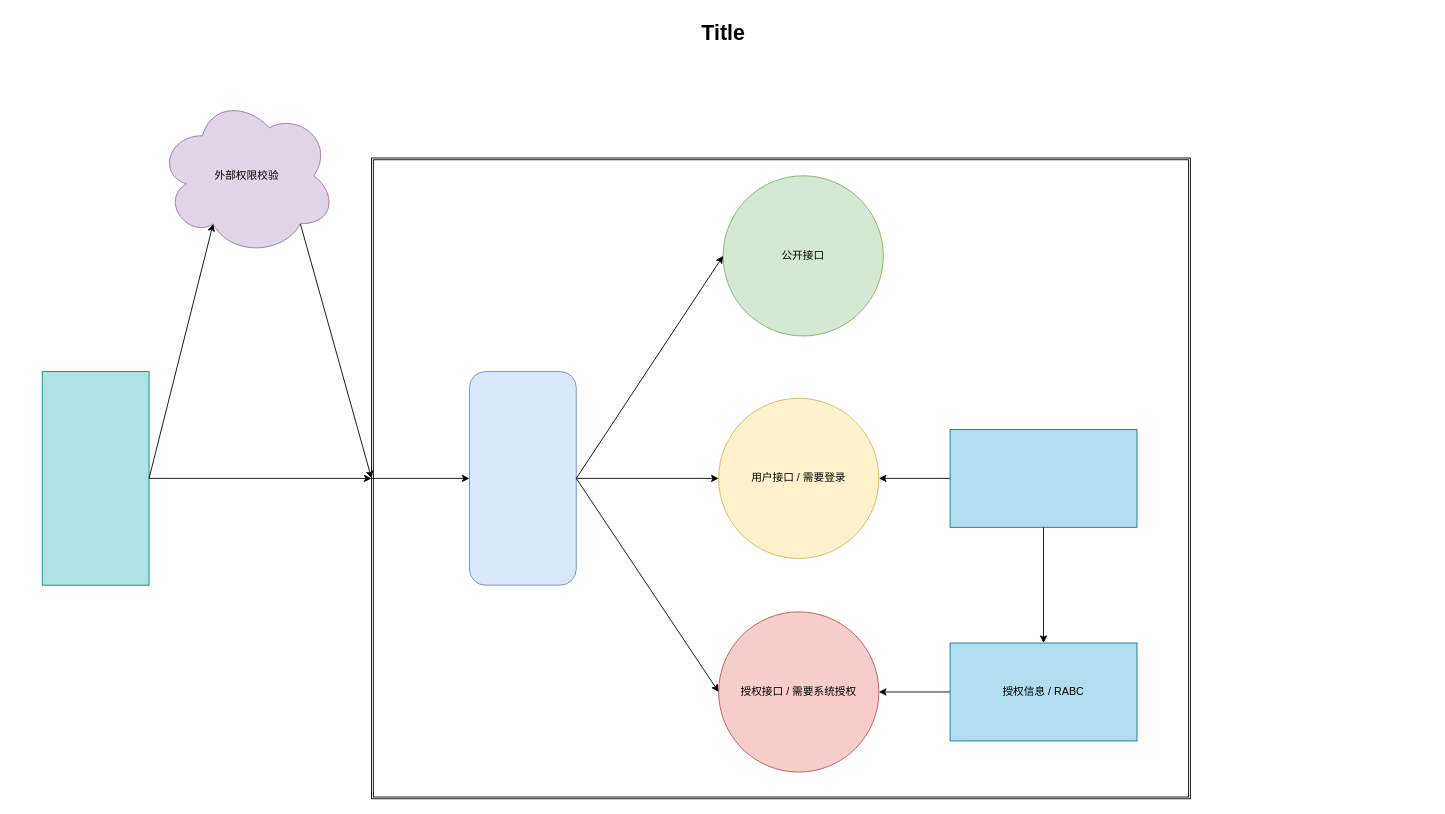
The diagram is 1445 pixels wide and 814 high, and some of its shapes have lost their labels. Each missing label, with the centre of its shape:
"客户端" belongs at pixel 95 478.
"权限校验" belongs at pixel 522 478.
"用户信息" belongs at pixel 1043 478.
